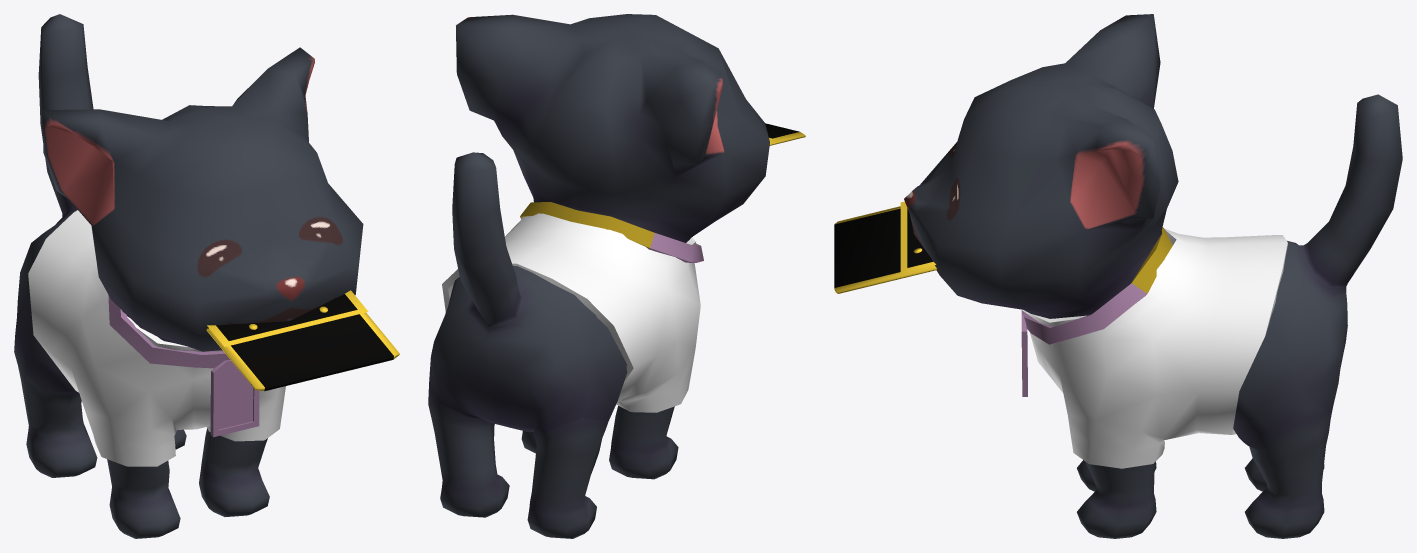
File: Student Cat01_03.fbx
3 views of the same model, side by side, from view 1: azimuth 30°, elevation 25°; view 2: azimuth 150°, elevation 25°; view 3: azimuth 270°, elevation 25° (orthographic). The views are drawn at different scales.
Visible parts, largest first — view 1: Cat_Base002, tshirt, Plastic Envelope, id; view 2: Cat_Base002, tshirt, id, Plastic Envelope; view 3: Cat_Base002, tshirt, Plastic Envelope, id.
Boxes of the visible parts, x1,y1,x2,y2 form: Cat_Base002: (14, 14, 363, 538); tshirt: (28, 210, 285, 466); Plastic Envelope: (206, 290, 399, 391); id: (108, 295, 259, 437); Cat_Base002: (428, 14, 769, 538); tshirt: (442, 213, 700, 412); id: (520, 202, 703, 262); Plastic Envelope: (765, 123, 805, 145); Cat_Base002: (904, 14, 1402, 538); tshirt: (1022, 228, 1287, 468); Plastic Envelope: (834, 201, 936, 293); id: (1021, 227, 1172, 396).
Size of the model in its own units: 1.75 by 3.23 by 2.68.
6 materials, 1 textured.
